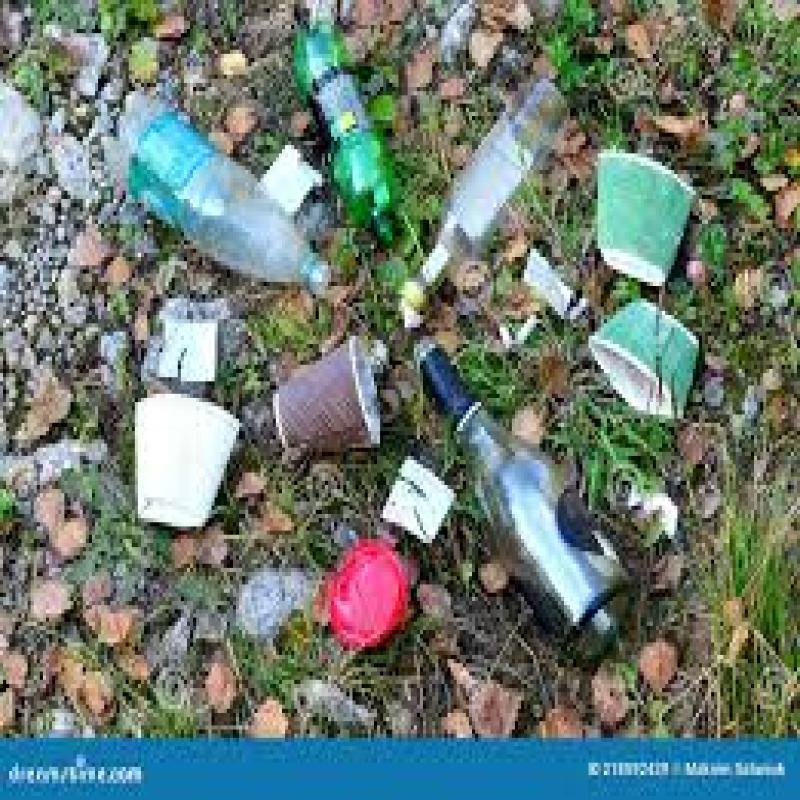botella: (92, 72, 342, 302), (282, 24, 406, 251)
